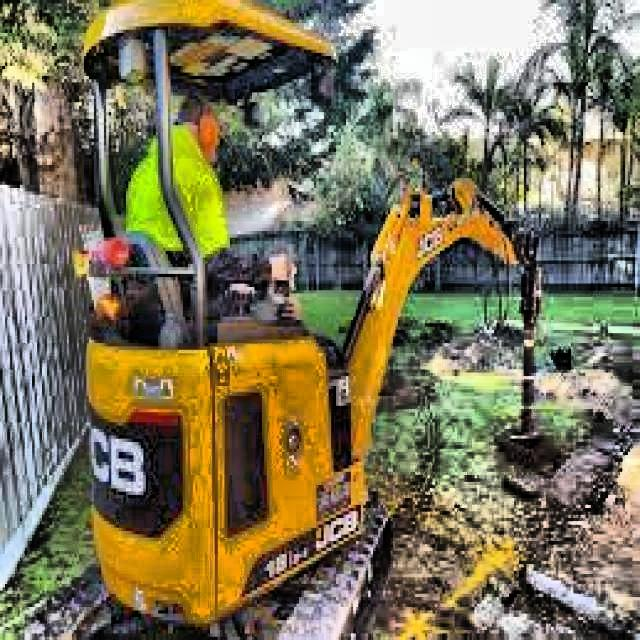bull_dozer/loader/grader: (23, 0, 550, 640)
person: (122, 80, 296, 337)
